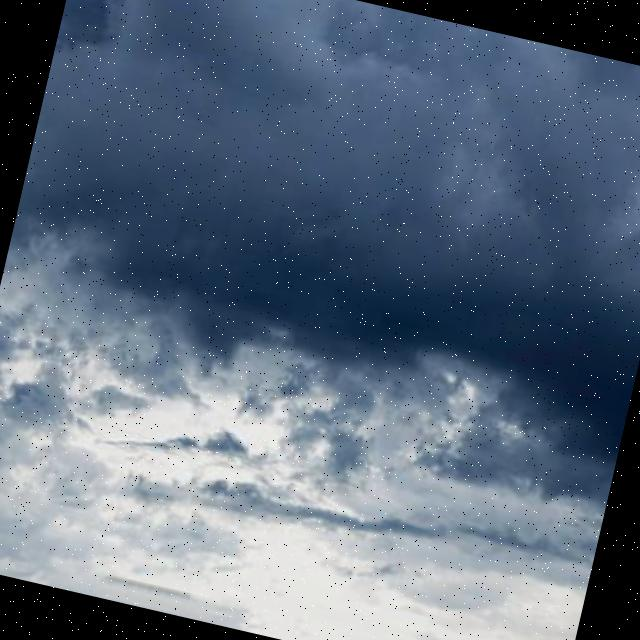Ns: (1, 39, 640, 640)
